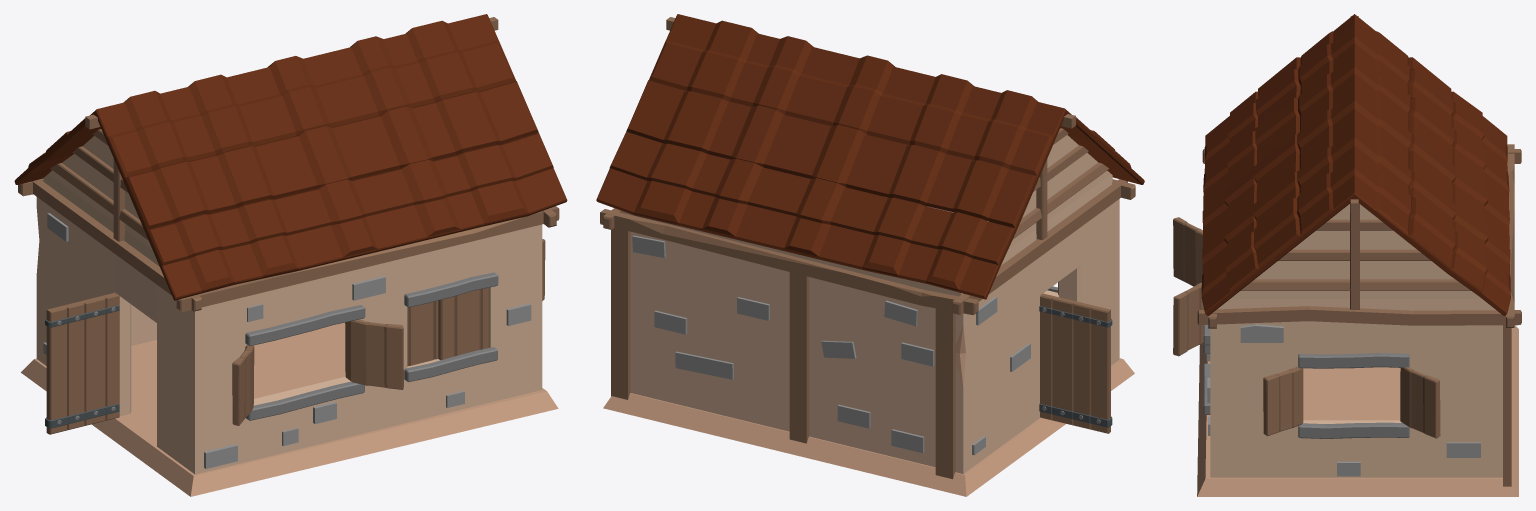
File: House_02.fbx
The picture shows the model from 3 angles, left to right: view 1: azimuth 30°, elevation 25°; view 2: azimuth 150°, elevation 25°; view 3: azimuth 270°, elevation 25°; orthographic projection. The views are drawn at different scales.
Visible parts, largest first — view 1: House_02, Door; view 2: House_02, Door; view 3: House_02.
Boxes of the visible parts, bbox=[...] form: House_02: bbox=[14, 14, 567, 496]; Door: bbox=[45, 293, 119, 434]; House_02: bbox=[596, 14, 1144, 496]; Door: bbox=[1039, 293, 1112, 433]; House_02: bbox=[1173, 14, 1521, 496].
Bounding box in the file's own units: 736 × 524 × 526.
Materials: 1 (1 with a texture image).
